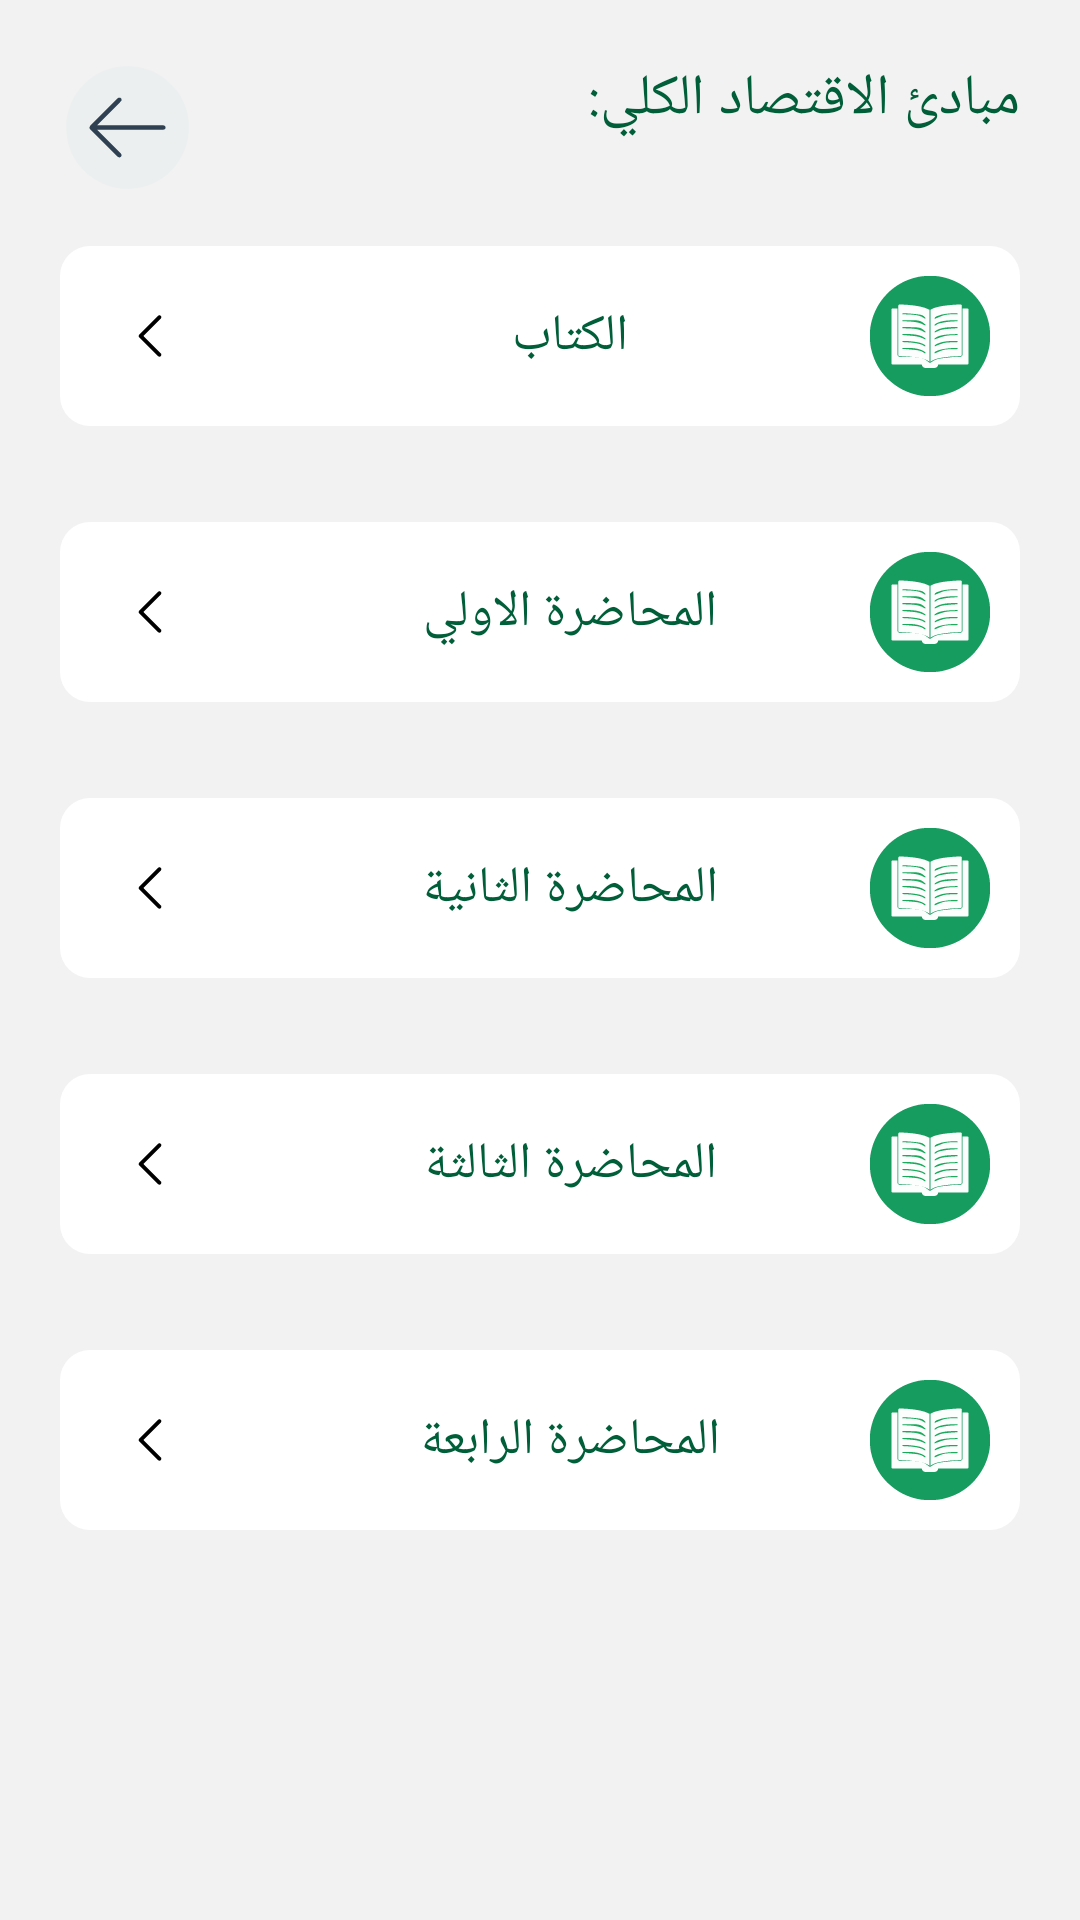

Icon click points for this 1080x1920 phone screenshot, format (x=x, y=y):
left arrow: (x=127, y=127)
reading: (x=930, y=336), (x=930, y=612), (x=930, y=888), (x=930, y=1164), (x=930, y=1440)
